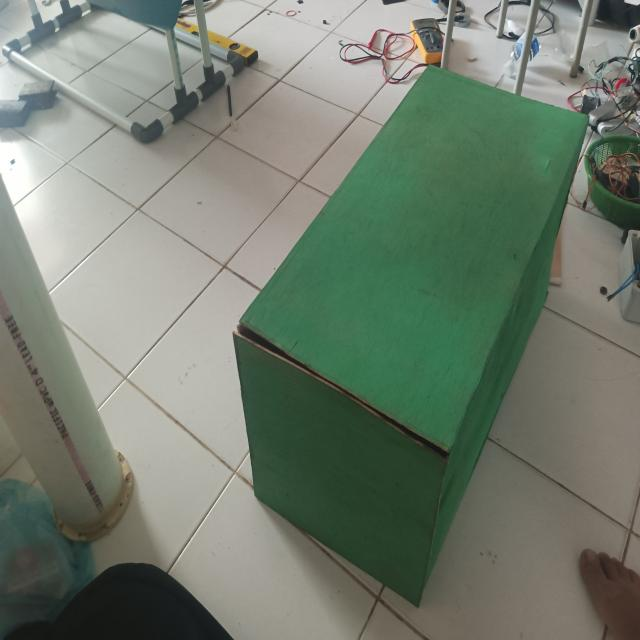green_box: (205, 38, 598, 630)
